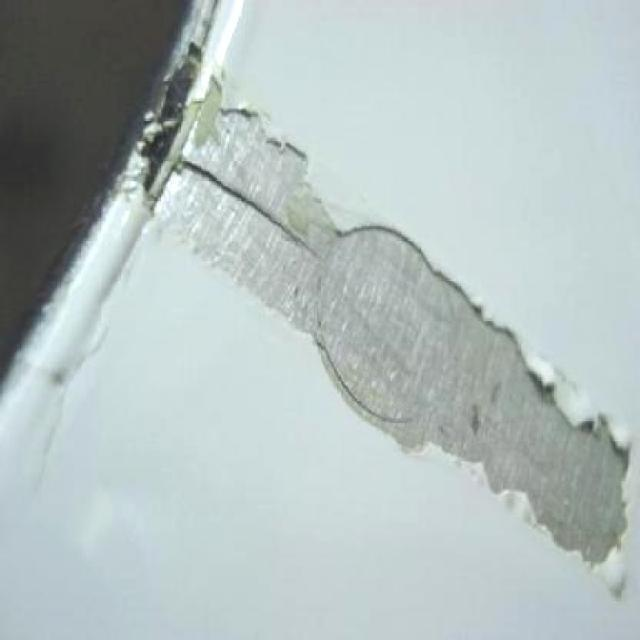crack: (168, 160, 254, 205), (252, 207, 323, 256)
